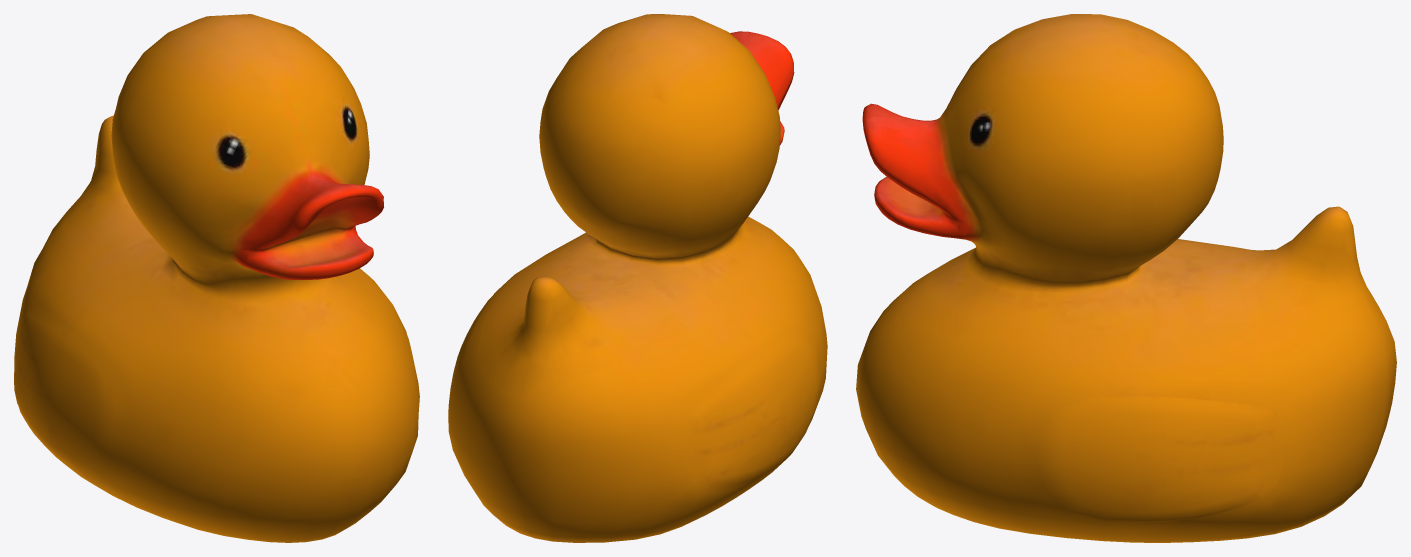
File: badeente.glb
3 renders of one model, left to right at view 1: azimuth 30°, elevation 25°; view 2: azimuth 150°, elevation 25°; view 3: azimuth 270°, elevation 25°, orthographic. The views are drawn at different scales.
Parts seen in each view (by area): view 1: rubber_duck_toy; view 2: rubber_duck_toy; view 3: rubber_duck_toy.
Part boxes in pixels (x1=…): rubber_duck_toy: x1=14, y1=14, x2=419, y2=542; rubber_duck_toy: x1=448, y1=14, x2=827, y2=542; rubber_duck_toy: x1=856, y1=14, x2=1396, y2=542.
Size of the model in its own units: 0.2135 by 0.2855 by 0.3.
1 material, 1 textured.
